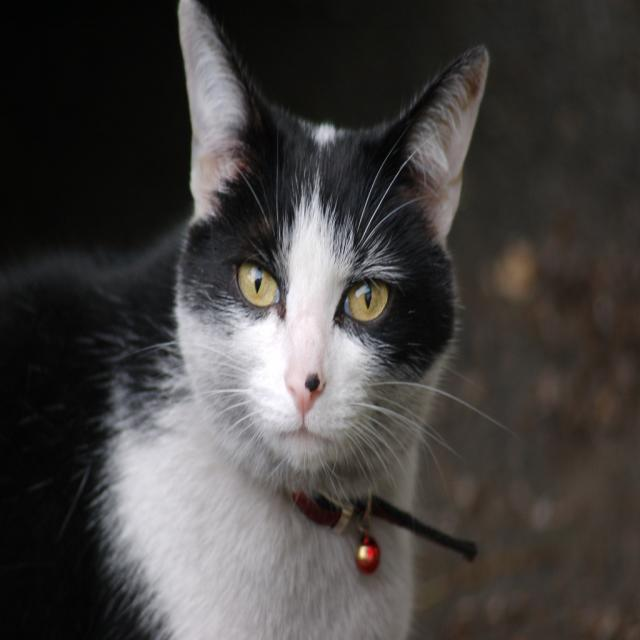cat: (2, 1, 513, 639)
